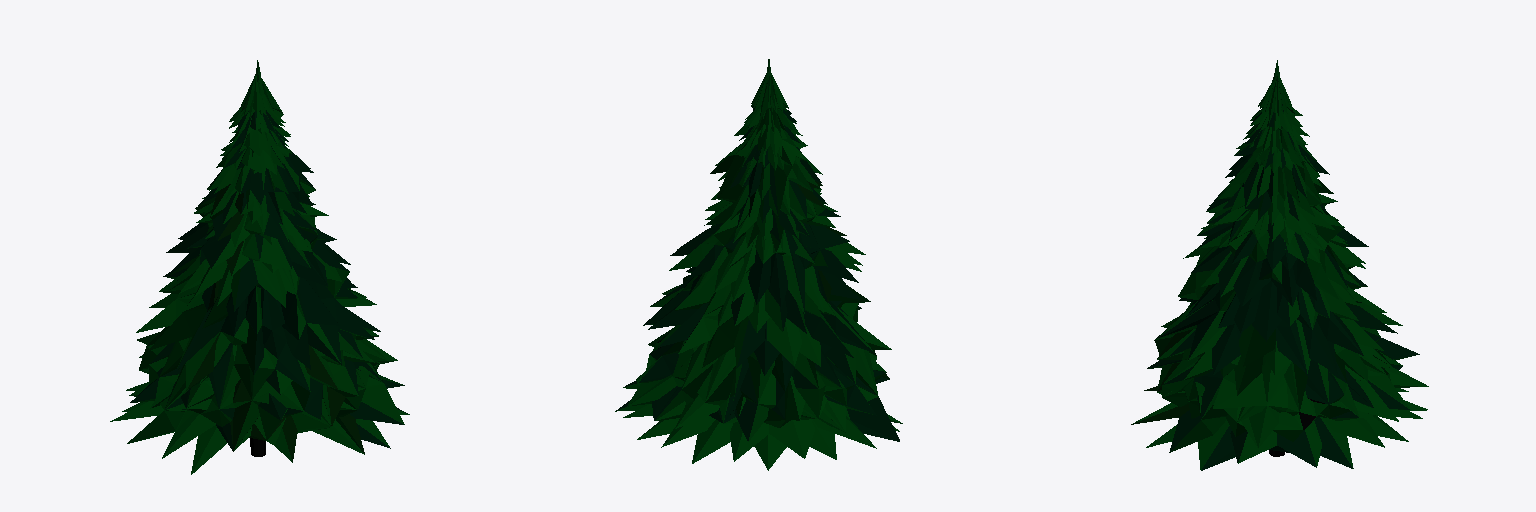
The model's file is tree.obj.
The picture shows the model from 3 angles: view 1: azimuth 30°, elevation 25°; view 2: azimuth 150°, elevation 25°; view 3: azimuth 270°, elevation 25°; orthographic projection.
Visible parts, largest first — view 1: Mesh_0; view 2: Mesh_0; view 3: Mesh_0.
Part boxes in pixels (left/top/right/bottom): Mesh_0: left=110, top=60, right=409, bottom=474; Mesh_0: left=615, top=59, right=902, bottom=470; Mesh_0: left=1131, top=60, right=1428, bottom=470.
Bounding box in the file's own units: 3.57 × 5.11 × 3.54.